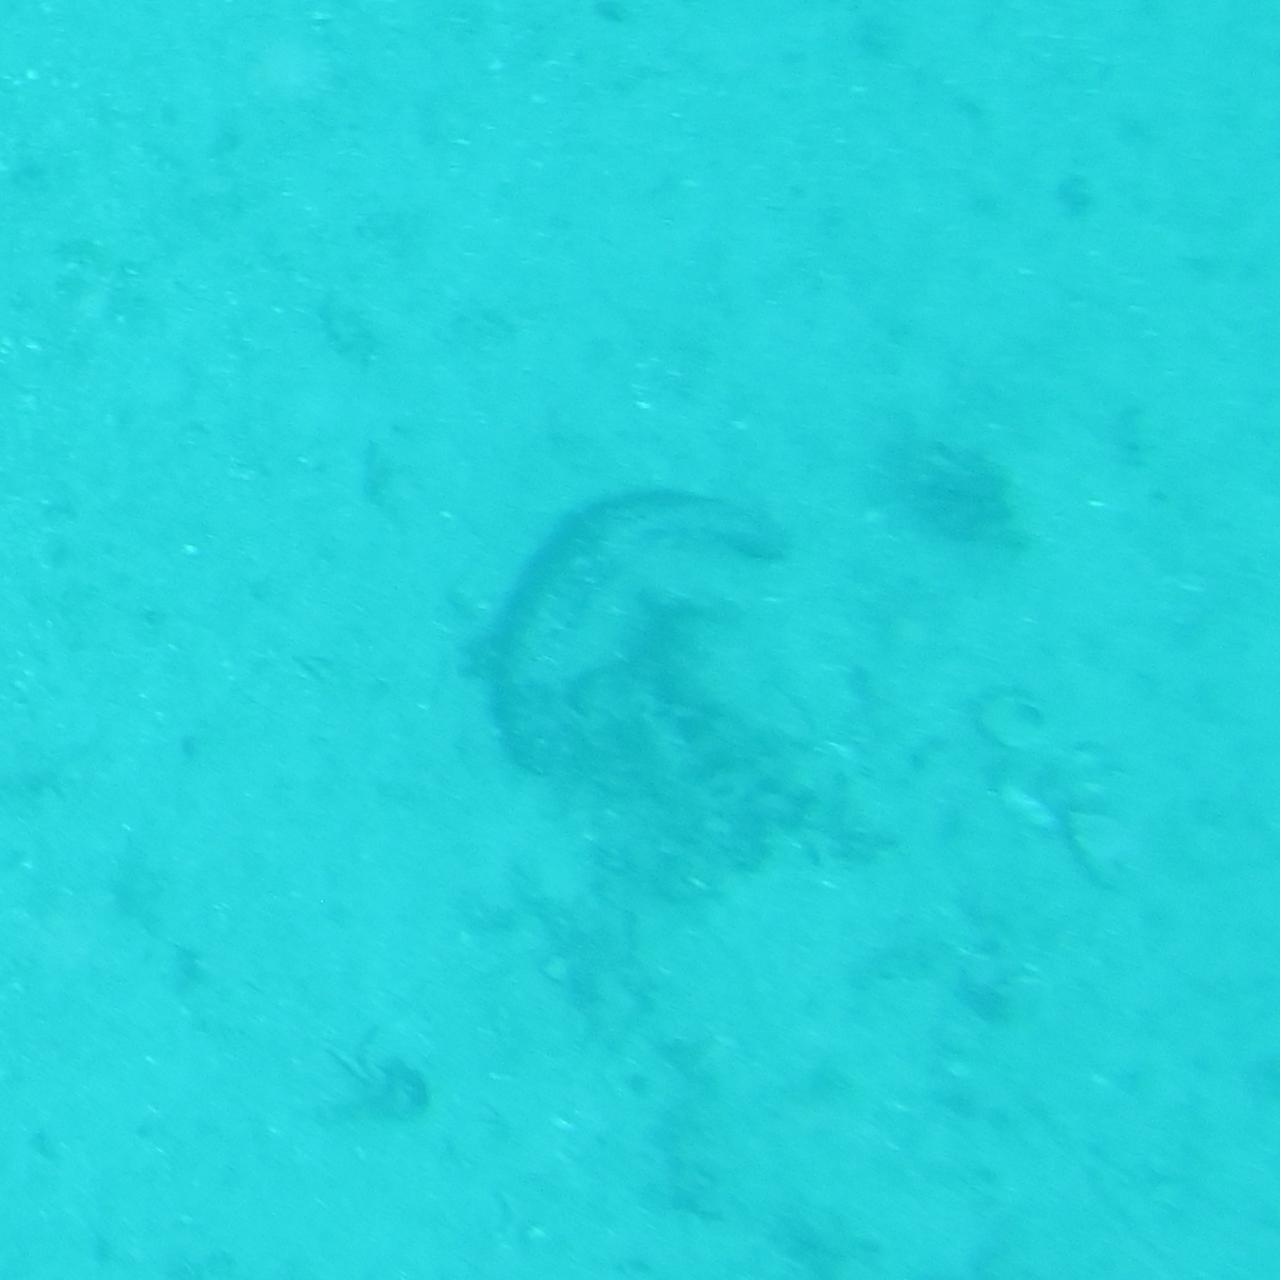Holothuria tubulosa: (477, 484, 803, 796)
